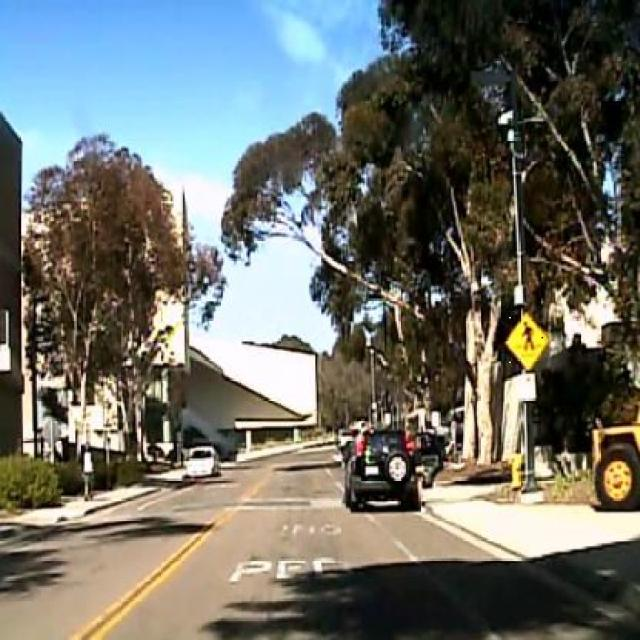pedestrianCrossing: (505, 311, 548, 369)
